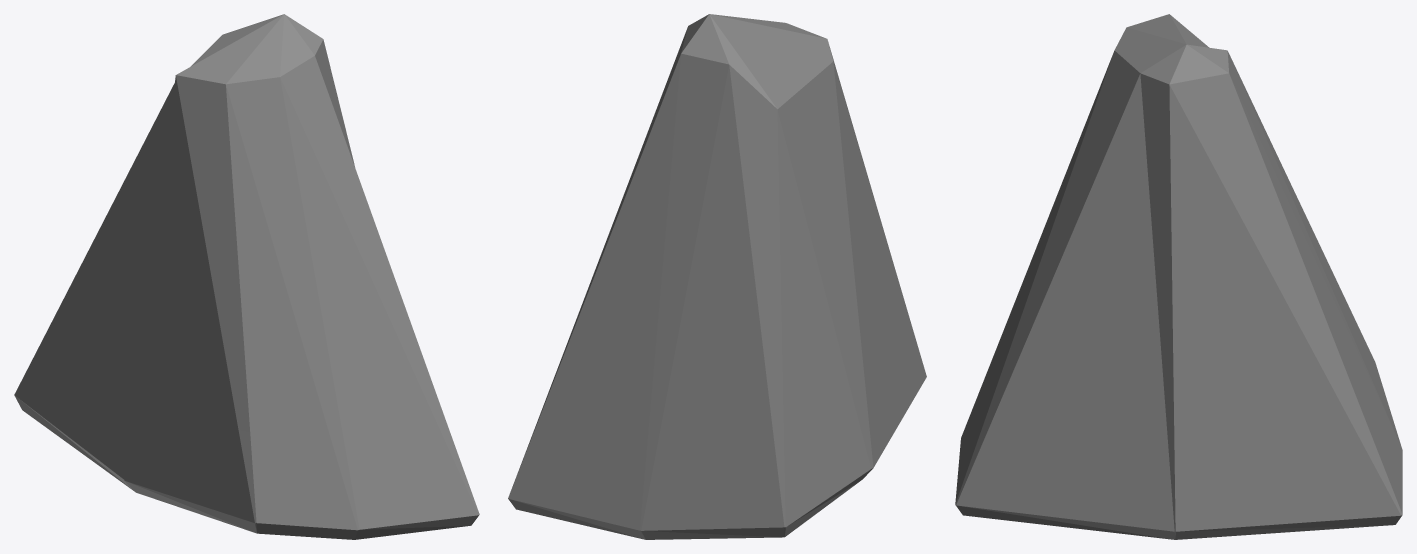
File: rock_02_e.fbx
3 views of the same model, side by side, from view 1: azimuth 30°, elevation 25°; view 2: azimuth 150°, elevation 25°; view 3: azimuth 270°, elevation 25° (orthographic). The views are drawn at different scales.
Visible parts, largest first — view 1: Rock_02_e; view 2: Rock_02_e; view 3: Rock_02_e.
Part boxes in pixels (x1,y1,x2,y2): Rock_02_e: (14, 14, 479, 539); Rock_02_e: (508, 14, 926, 539); Rock_02_e: (955, 14, 1402, 539).
Bounding box in the file's own units: 5.2 × 6.81 × 7.37.
